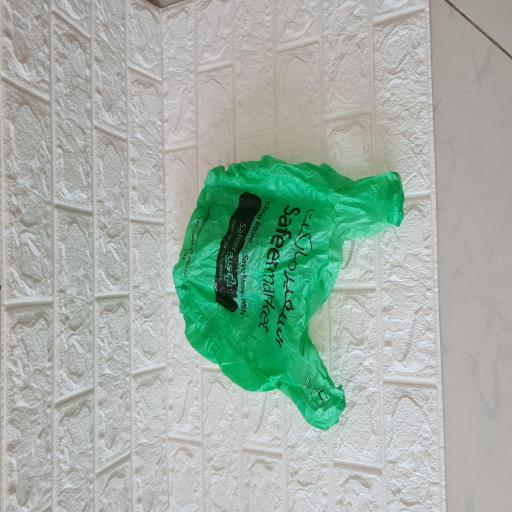plastic bag: (175, 153, 405, 431)
